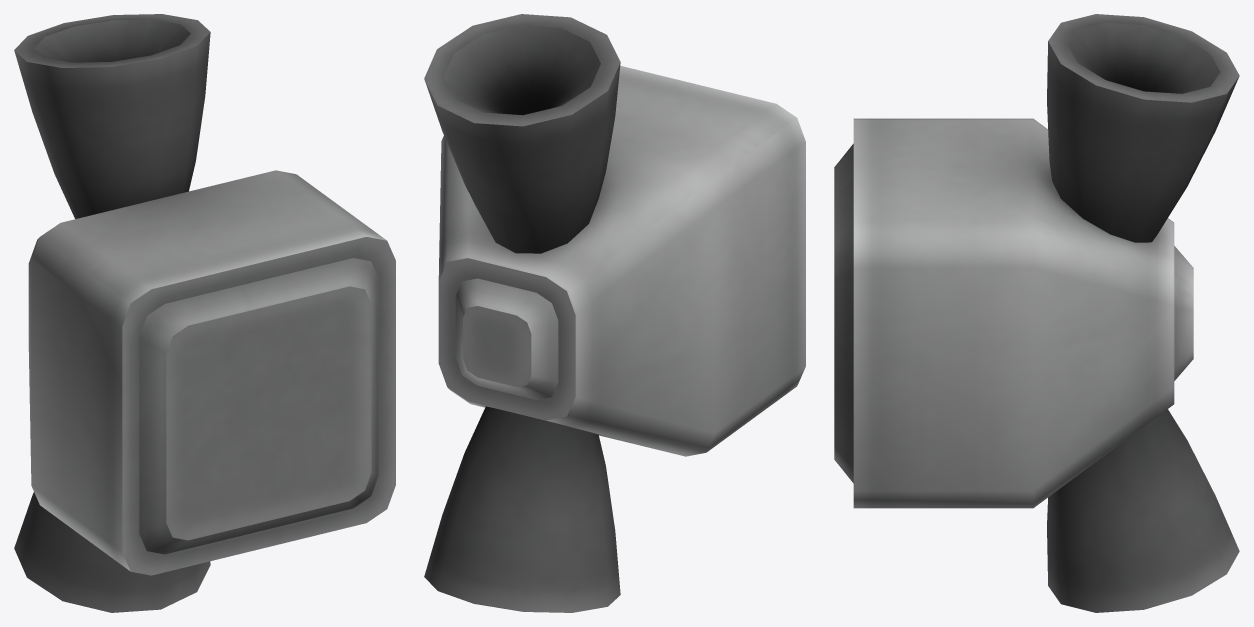
File: Tantares_RCS_3.obj
The picture shows the model from 3 angles, left to right: view 1: azimuth 30°, elevation 25°; view 2: azimuth 150°, elevation 25°; view 3: azimuth 270°, elevation 25°; orthographic projection.
Visible parts, largest first — view 1: Tantares_RCS_3; view 2: Tantares_RCS_3; view 3: Tantares_RCS_3.
Part boxes in pixels (x1,y1,x2,y2): Tantares_RCS_3: [14, 14, 395, 612]; Tantares_RCS_3: [424, 14, 805, 612]; Tantares_RCS_3: [834, 14, 1239, 612].
Size of the model in its own units: 0.1 by 0.1923 by 0.1297.
